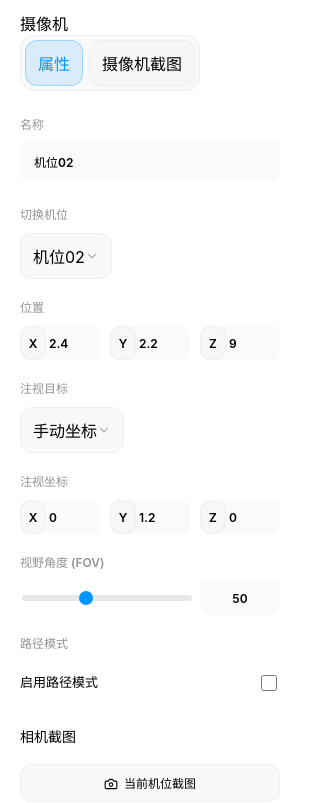
uses the custom dropdown menu to switch camera shots
Click the button named "切换机位".
click(66, 256)  # box [20,233,112,279]
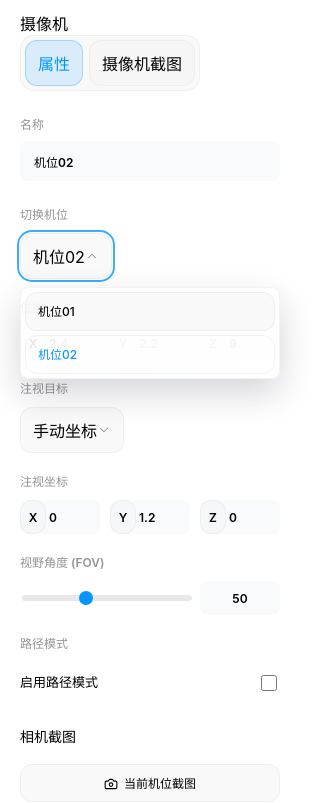
Click the option "机位01".
click(150, 312)  # box [25,292,275,331]
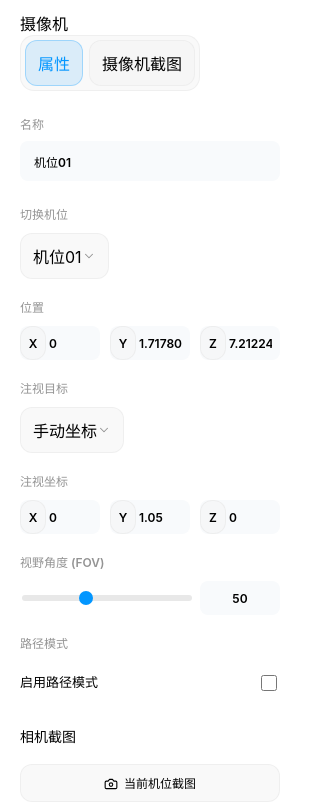
Check: the list "机位01 机位02" is gone
